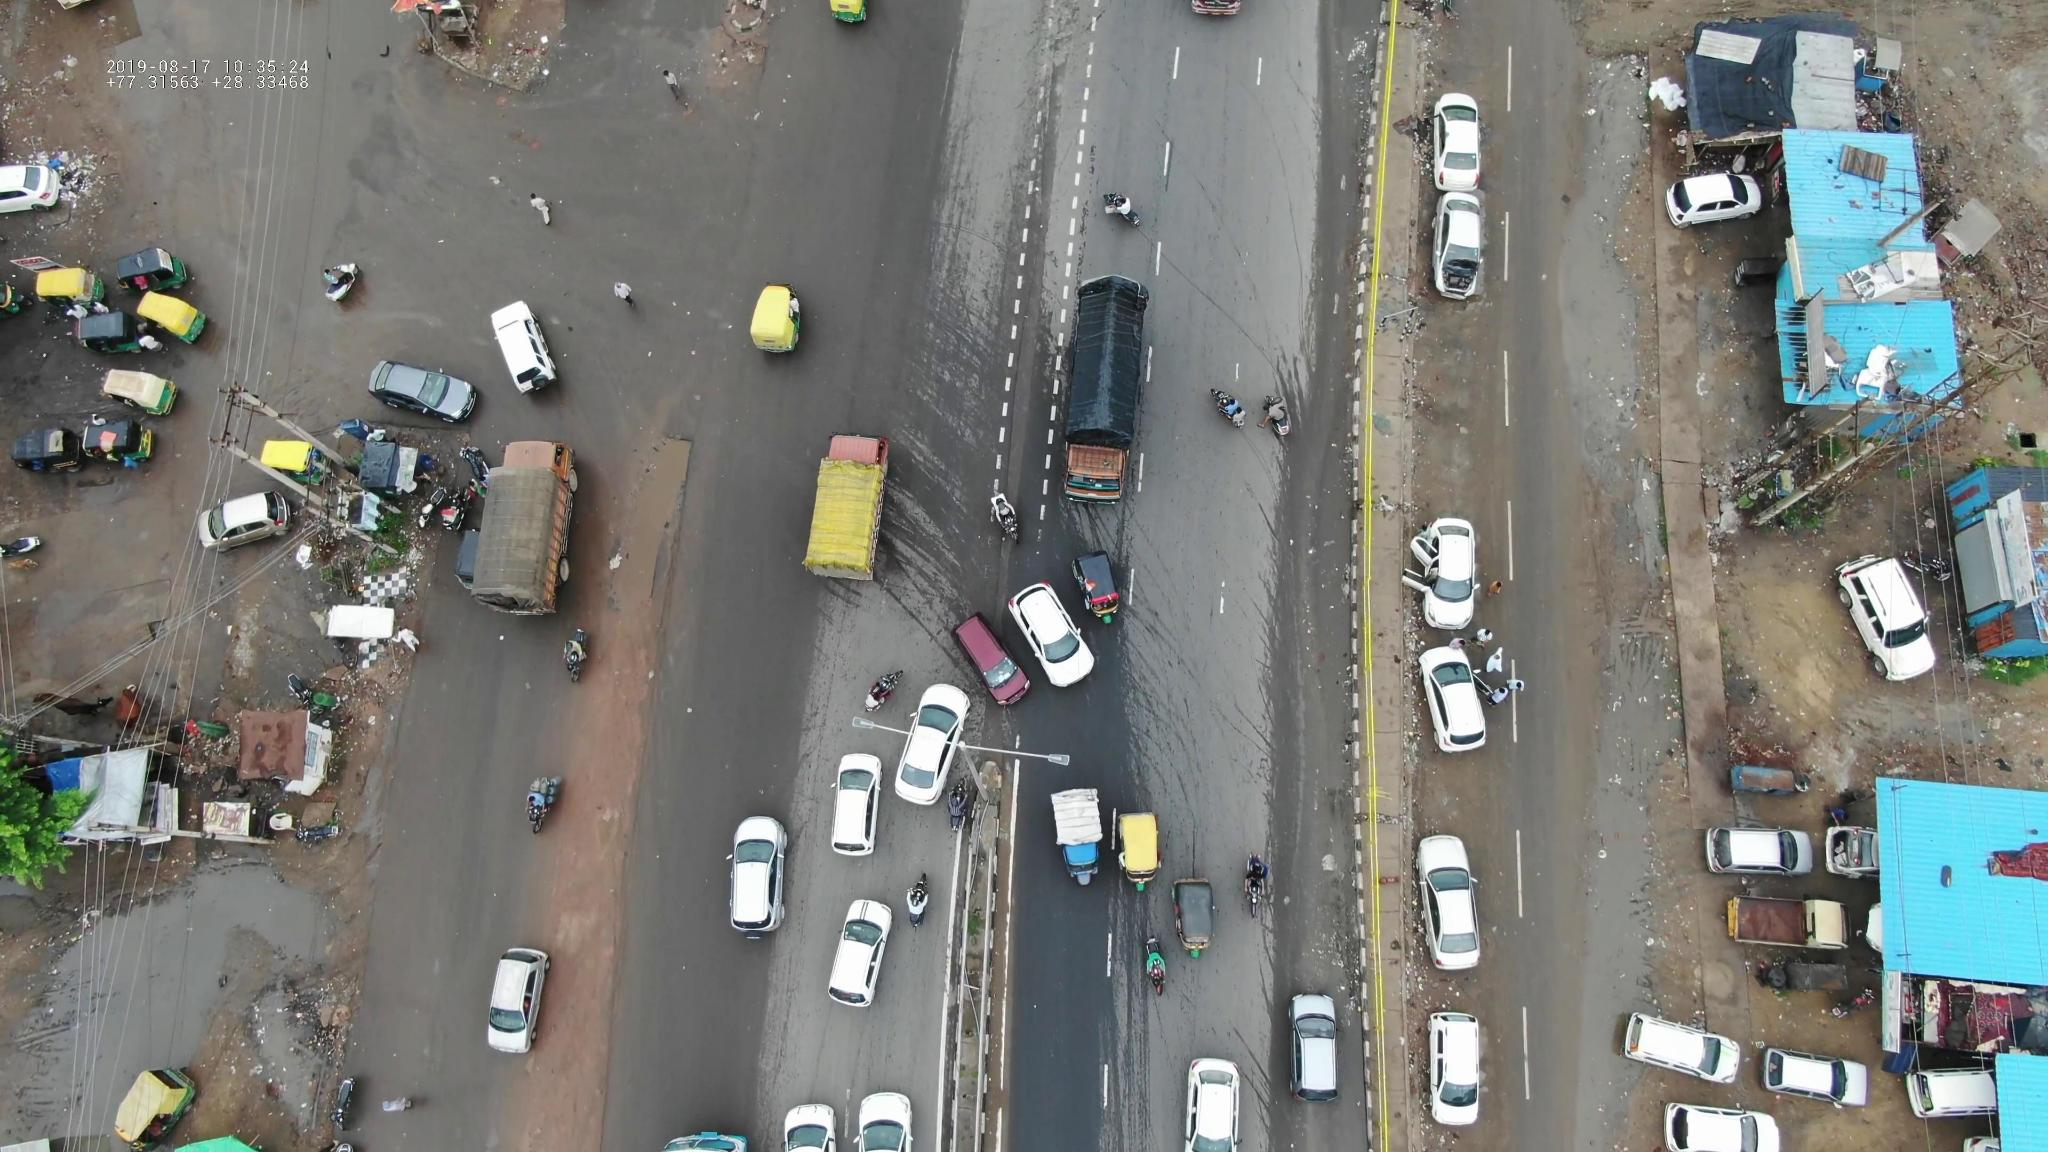Waterlogging: (1577, 619, 1691, 1010), (1556, 52, 1640, 444)
